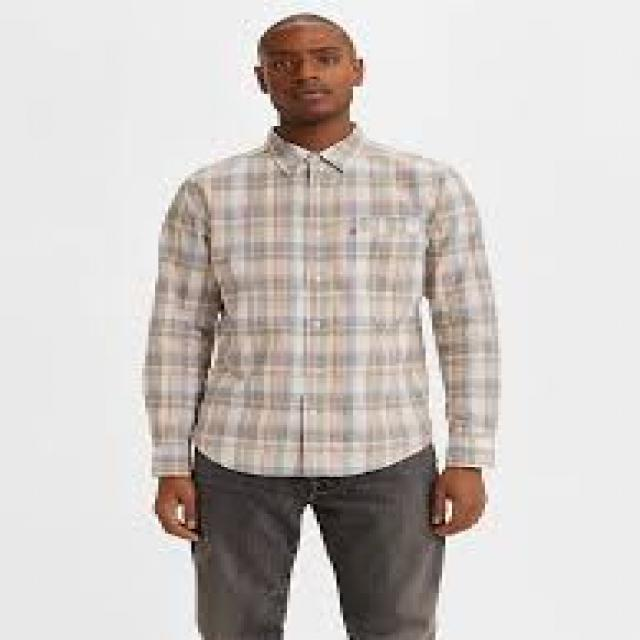plaid: (141, 121, 506, 475)
